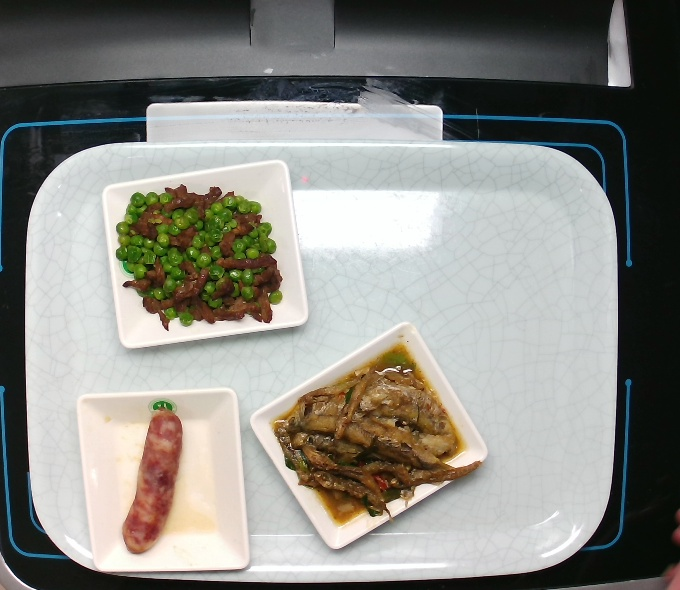wcq-CanDouNiuRou: (109, 180, 286, 332)
wcq-XiangChang: (119, 410, 192, 559)
wcq-XiaoJiYu: (273, 344, 485, 525)
